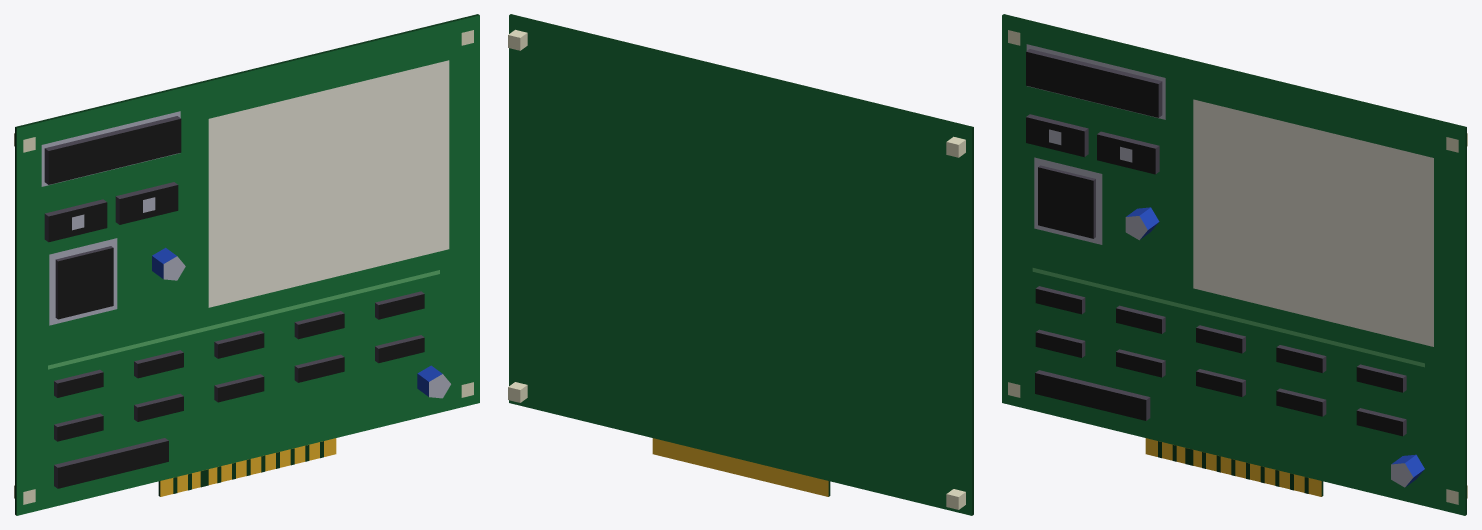
Rendered from arcade.obj.
3 views of the same model, side by side, from view 1: azimuth 30°, elevation 25°; view 2: azimuth 150°, elevation 25°; view 3: azimuth 330°, elevation 25° (orthographic).
Visible parts, largest first — view 1: arcade; view 2: arcade; view 3: arcade.
Part boxes in pixels (x1,y1,x2,y2): arcade: (14,14,479,515); arcade: (508,14,973,515); arcade: (1002,14,1467,515).
Size of the model in its own units: 30 by 25 by 2.3.
